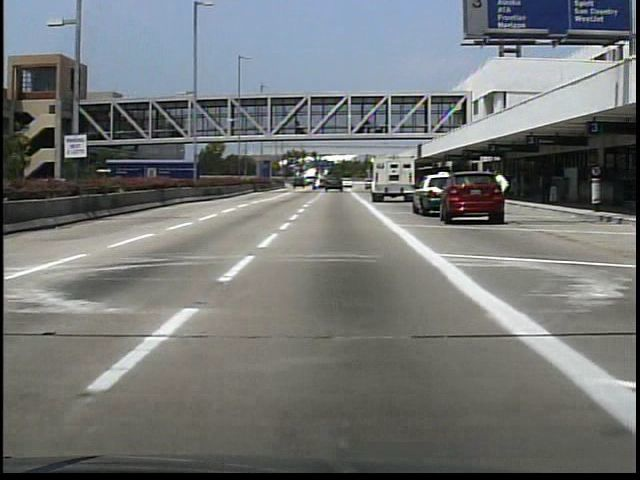person: (490, 170, 510, 227)
